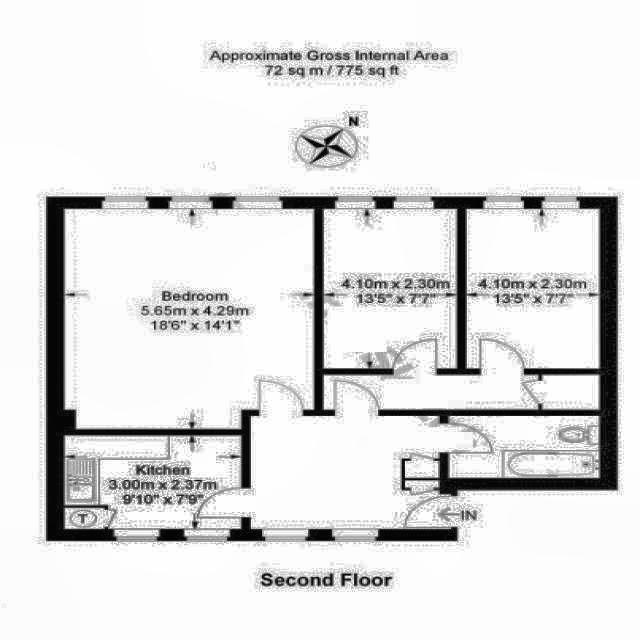room: (64, 209, 315, 431), (251, 416, 439, 529), (323, 209, 456, 367), (467, 210, 598, 368), (65, 436, 241, 529), (324, 374, 599, 409), (448, 416, 599, 476)
